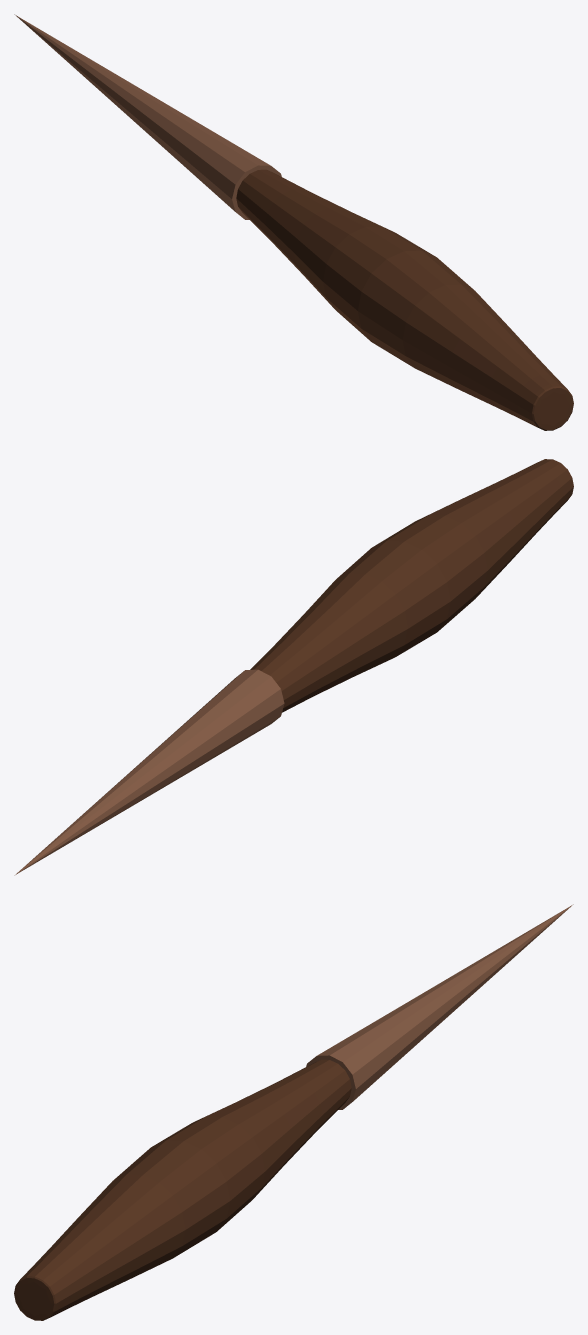
Rendered from Wand 11.glb.
3 renders of one model, top to bottom at view 1: azimuth 30°, elevation 25°; view 2: azimuth 150°, elevation 25°; view 3: azimuth 330°, elevation 25°, orthographic.
Parts seen in each view (by area): view 1: GeneratedWand; view 2: GeneratedWand; view 3: GeneratedWand.
Boxes of the visible parts, box(x1,y1,x2,y2) form: GeneratedWand: box(14, 14, 573, 430); GeneratedWand: box(14, 459, 573, 875); GeneratedWand: box(14, 904, 573, 1320).
Size of the model in its own units: 0.0499 by 0.0499 by 0.5021.
